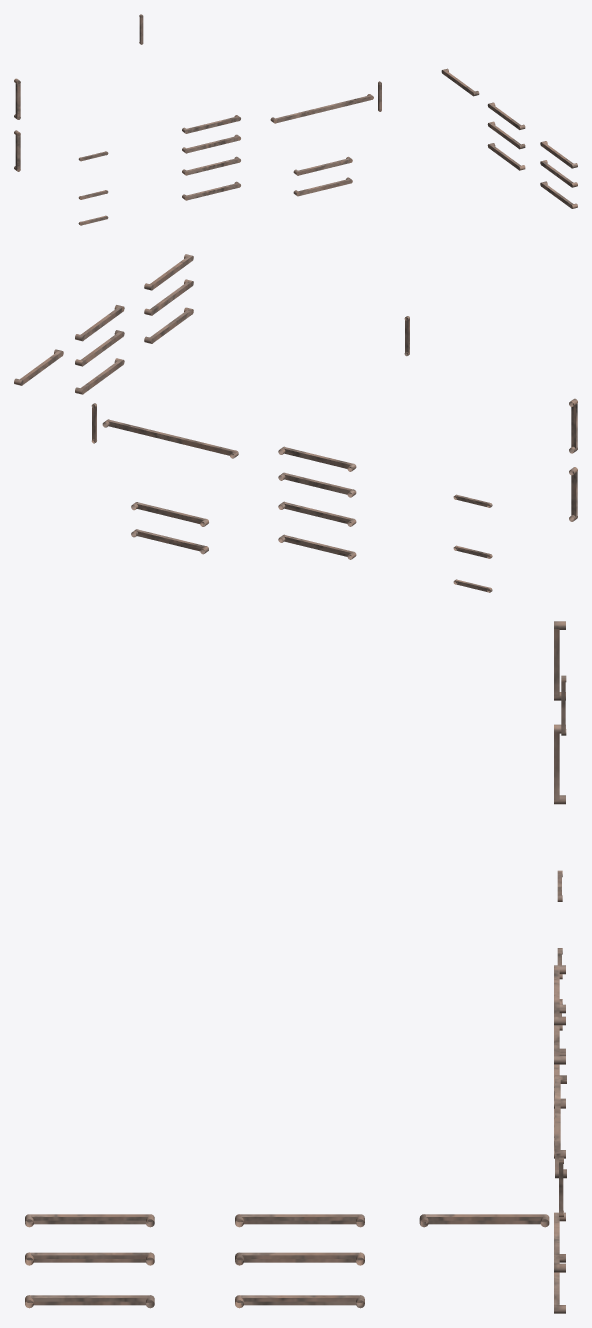
Rendered from Handles.fbx.
3 views of the same model, one above another, from view 1: azimuth 30°, elevation 25°; view 2: azimuth 150°, elevation 25°; view 3: azimuth 270°, elevation 25° (orthographic). The views are drawn at different scales.
Parts seen in each view (by area): view 1: Kitchen_Handles; view 2: Kitchen_Handles; view 3: Kitchen_Handles.
Part boxes in pixels (x1,y1,x2,y2): Kitchen_Handles: (14,14,577,225); Kitchen_Handles: (14,254,577,592); Kitchen_Handles: (25,621,566,1313).
Bounding box in the file's own units: 317 × 154 × 174.
